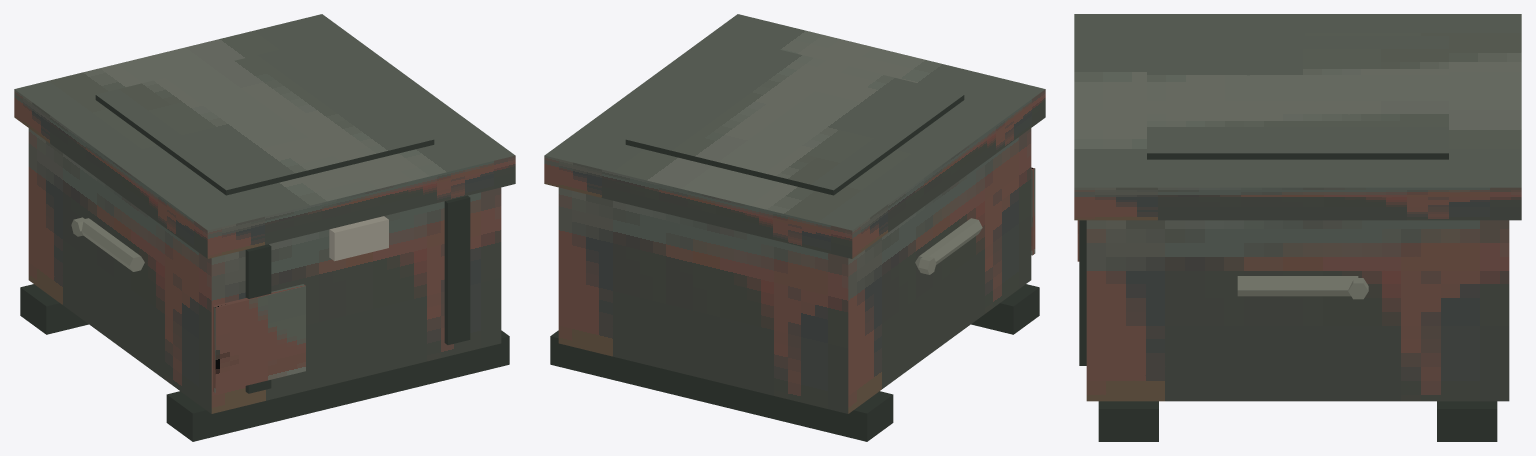
File: Building_AncientMilitaryCrate.glb
The picture shows the model from 3 angles, left to right: view 1: azimuth 30°, elevation 25°; view 2: azimuth 150°, elevation 25°; view 3: azimuth 270°, elevation 25°; orthographic projection. The views are drawn at different scales.
Visible parts, largest first — view 1: AncientMilitaryCrate; view 2: AncientMilitaryCrate; view 3: AncientMilitaryCrate.
Part boxes in pixels (<box>): AncientMilitaryCrate: <box>14,14,515,441</box>; AncientMilitaryCrate: <box>544,14,1045,441</box>; AncientMilitaryCrate: <box>1074,14,1521,441</box>.
Size of the model in its own units: 0.7208 by 0.471 by 0.74.
Materials: 1 (1 with a texture image).
